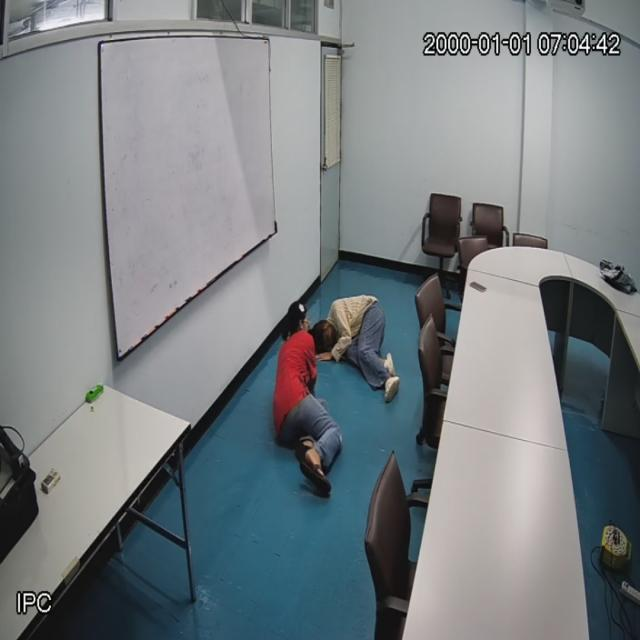fall: (314, 292, 401, 398), (274, 299, 320, 476)
